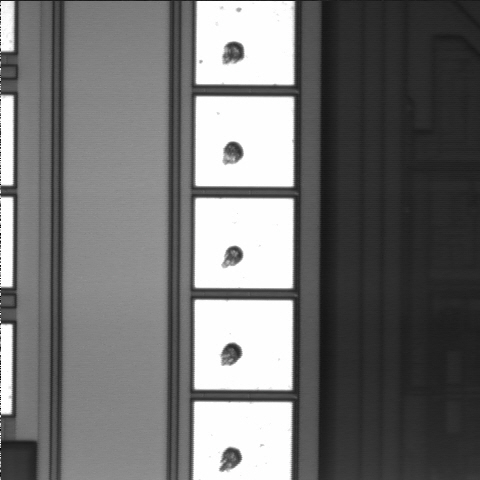pad: (196, 96, 294, 187), (195, 198, 293, 288), (195, 300, 293, 390)
